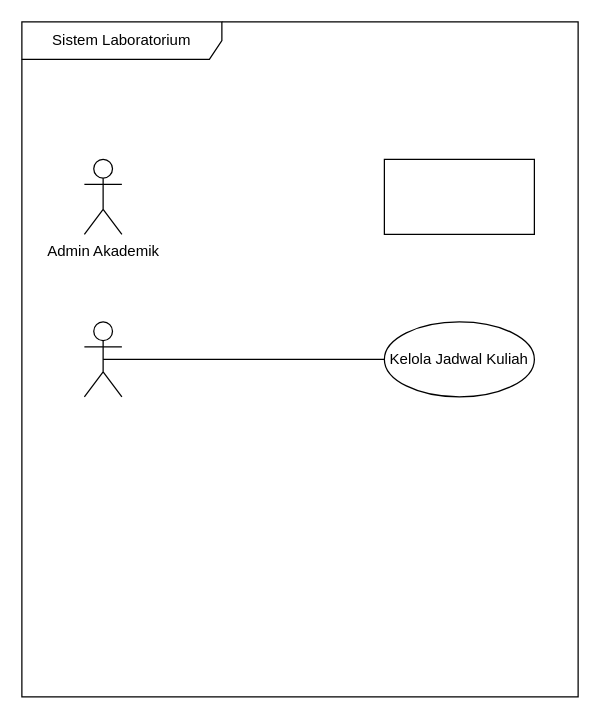
This 600x719 diagram has some shape labels left out. Each missing label, with the centre of its shape:
"Lihat Jadwal kuliah" goes at (x=458, y=196).
"MAHASISWA" goes at (x=102, y=359).
